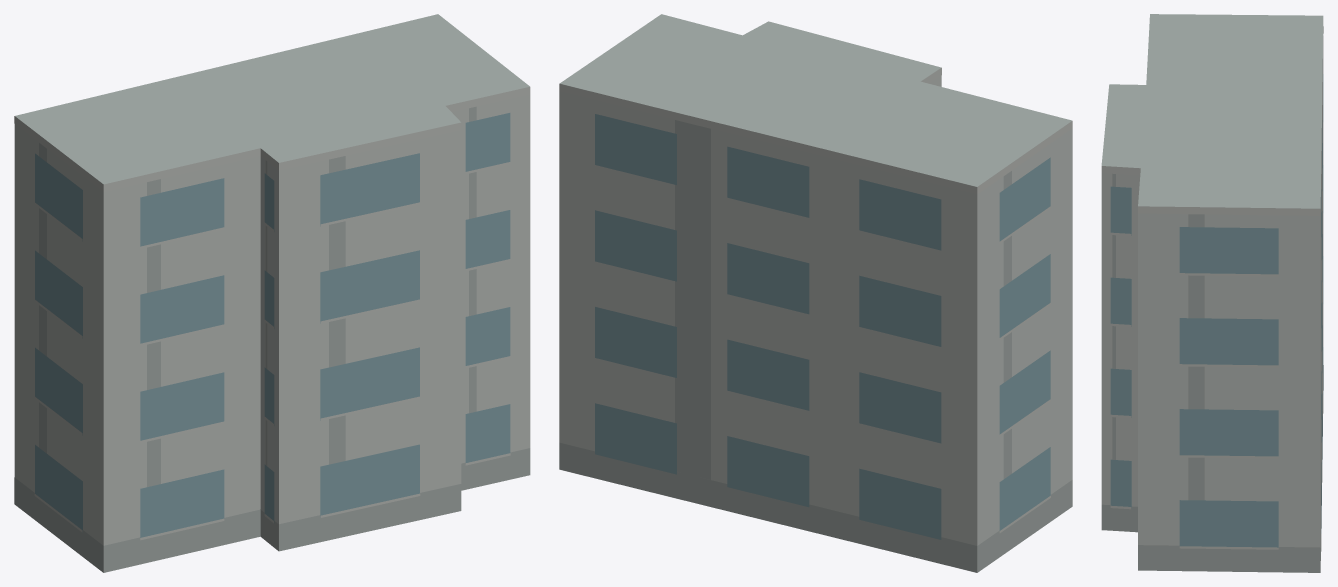
The model's file is survey-upis-32912266.glb.
The picture shows the model from 3 angles, left to right: view 1: azimuth 30°, elevation 25°; view 2: azimuth 150°, elevation 25°; view 3: azimuth 270°, elevation 25°; orthographic projection. The views are drawn at different scales.
Visible parts, largest first — view 1: survey-upis-32912266.tmp; view 2: survey-upis-32912266.tmp; view 3: survey-upis-32912266.tmp.
Part boxes in pixels (left/top/right/bottom): survey-upis-32912266.tmp: left=14, top=14, right=530, bottom=572; survey-upis-32912266.tmp: left=559, top=14, right=1072, bottom=572; survey-upis-32912266.tmp: left=1101, top=14, right=1323, bottom=572.
Bounding box in the file's own units: 14 × 12.2 × 6.75.
